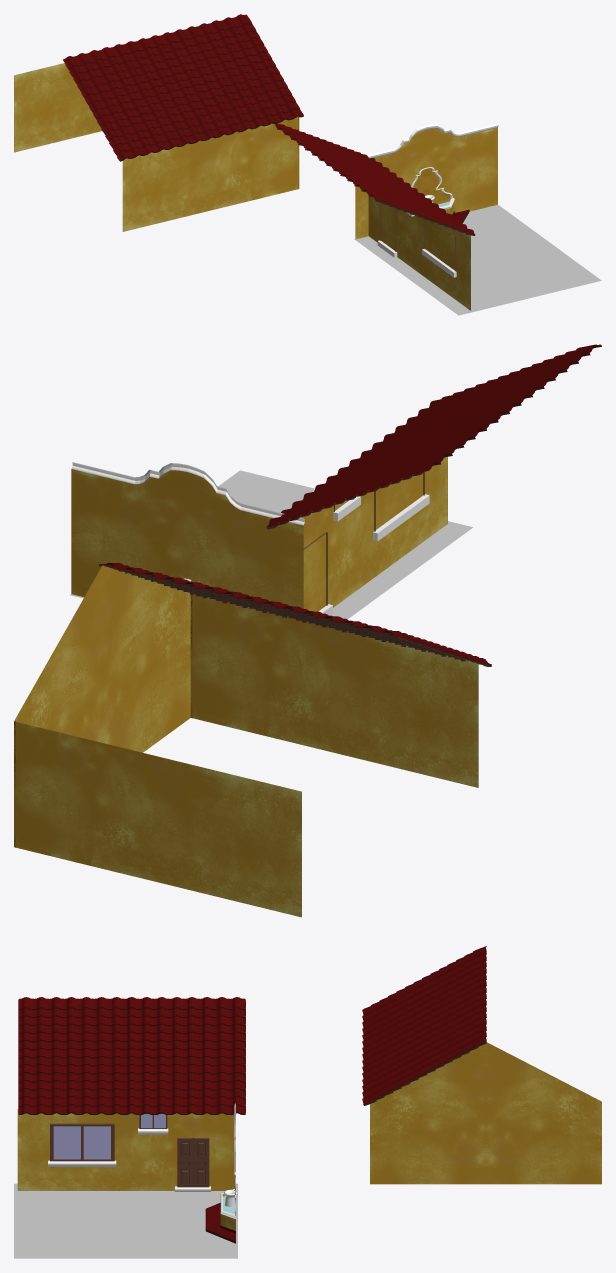
File: AntiguaPatio.fbx
3 renders of one model, top to bottom at view 1: azimuth 30°, elevation 25°; view 2: azimuth 150°, elevation 25°; view 3: azimuth 270°, elevation 25°, orthographic. The views are drawn at different scales.
Visible parts, largest first — view 1: RoofBG, Casa1, Floor, WallF, WallH, Roof, Fountain; view 2: Casa1, WallF, Roof, WallH, Floor, RoofBG; view 3: Roof, Casa1, Floor, RoofBG, WallH, Vidrio2.001, Door, Fountain, Window2.
Part boxes in pixels (bbox=[...]): RoofBG: bbox=[63, 14, 303, 161]; Casa1: bbox=[14, 63, 299, 231]; Floor: bbox=[354, 205, 601, 315]; WallF: bbox=[355, 123, 498, 239]; WallH: bbox=[368, 196, 470, 310]; Roof: bbox=[270, 122, 475, 235]; Fountain: bbox=[411, 167, 469, 223]; Casa1: bbox=[14, 565, 478, 917]; WallF: bbox=[71, 462, 304, 608]; Roof: bbox=[266, 344, 601, 529]; WallH: bbox=[300, 457, 447, 611]; Floor: bbox=[70, 470, 472, 619]; RoofBG: bbox=[98, 563, 491, 666]; Roof: bbox=[18, 997, 245, 1115]; Casa1: bbox=[370, 1042, 601, 1184]; Floor: bbox=[14, 1183, 237, 1258]; RoofBG: bbox=[362, 946, 486, 1105]; WallH: bbox=[17, 1109, 234, 1190]; Vidrio2.001: bbox=[53, 1126, 110, 1159]; Door: bbox=[177, 1138, 209, 1187]; Fountain: bbox=[205, 1175, 237, 1243]; Window2: bbox=[50, 1123, 114, 1161].
Size of the model in its own units: 5237 by 2195 by 7831.
